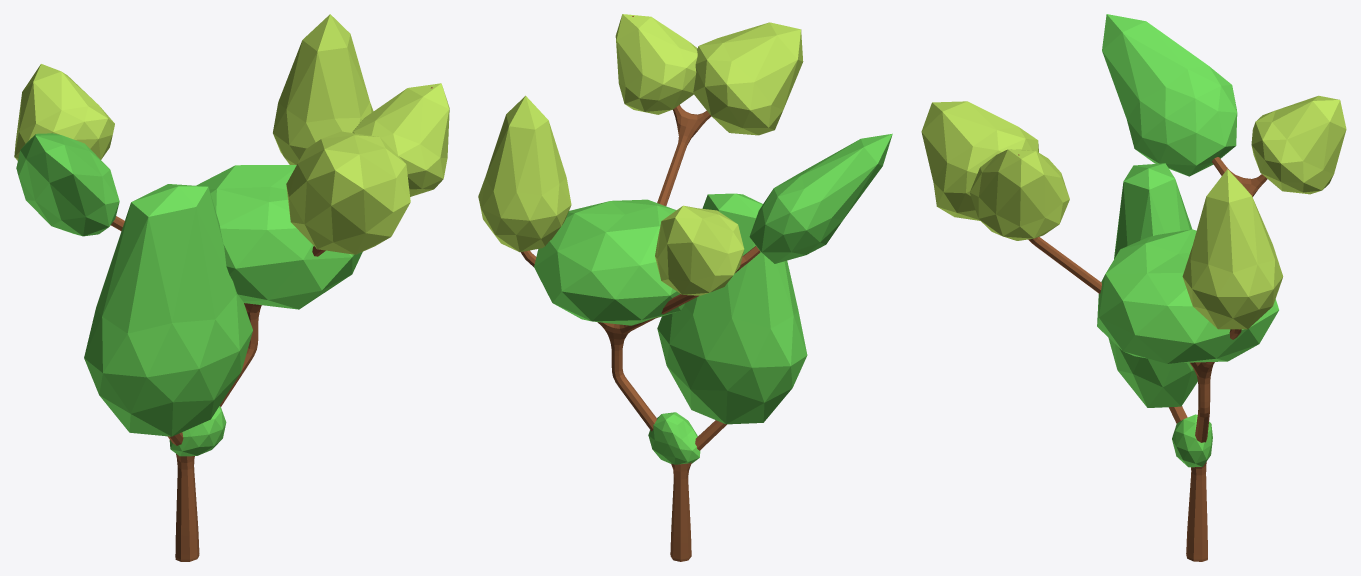
Rendered from BigWood.fbx.
3 views of the same model, side by side, from view 1: azimuth 30°, elevation 25°; view 2: azimuth 150°, elevation 25°; view 3: azimuth 270°, elevation 25° (orthographic). The views are drawn at different scales.
Parts seen in each view (by area): view 1: Icosphere.003, Icosphere.005, Icosphere.001, Icosphere.002, Icosphere.006, Icosphere.004, Icosphere, Cube, Icosphere.007; view 2: Icosphere.003, Icosphere.005, Icosphere.002, Icosphere.001, Icosphere.006, Icosphere.004, Icosphere, Cube, Icosphere.007; view 3: Icosphere.006, Icosphere.005, Icosphere.002, Icosphere.003, Icosphere.001, Icosphere, Icosphere.004, Cube, Icosphere.007.
Boxes of the visible parts, x1,y1,x2,y2 form: Icosphere.003: (84,184,252,436); Icosphere.005: (196,165,362,309); Icosphere.001: (286,131,410,254); Icosphere.002: (273,14,373,164); Icosphere.006: (16,133,119,236); Icosphere.004: (352,83,449,196); Icosphere: (14,64,114,160); Cube: (111,87,432,561); Icosphere.007: (169,406,226,456); Icosphere.003: (657,193,807,424); Icosphere.005: (534,199,684,325); Icosphere.002: (478,95,571,252); Icosphere.001: (693,22,803,135); Icosphere.006: (749,133,892,263); Icosphere.004: (615,14,697,114); Icosphere: (655,205,744,295); Cube: (521,16,760,561); Icosphere.007: (648,412,700,464); Icosphere.006: (1102,14,1237,176); Icosphere.005: (1097,229,1278,363); Icosphere.002: (1182,169,1283,329); Icosphere.003: (1108,163,1197,407); Icosphere.001: (921,101,1038,220); Icosphere: (1251,95,1346,194); Icosphere.004: (969,149,1069,240); Cube: (1018,154,1267,561); Icosphere.007: (1172,414,1212,467).
Size of the model in its own units: 130 by 159 by 130.
